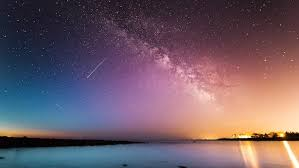sea: (2, 140, 299, 167)
sky: (1, 1, 298, 138)
